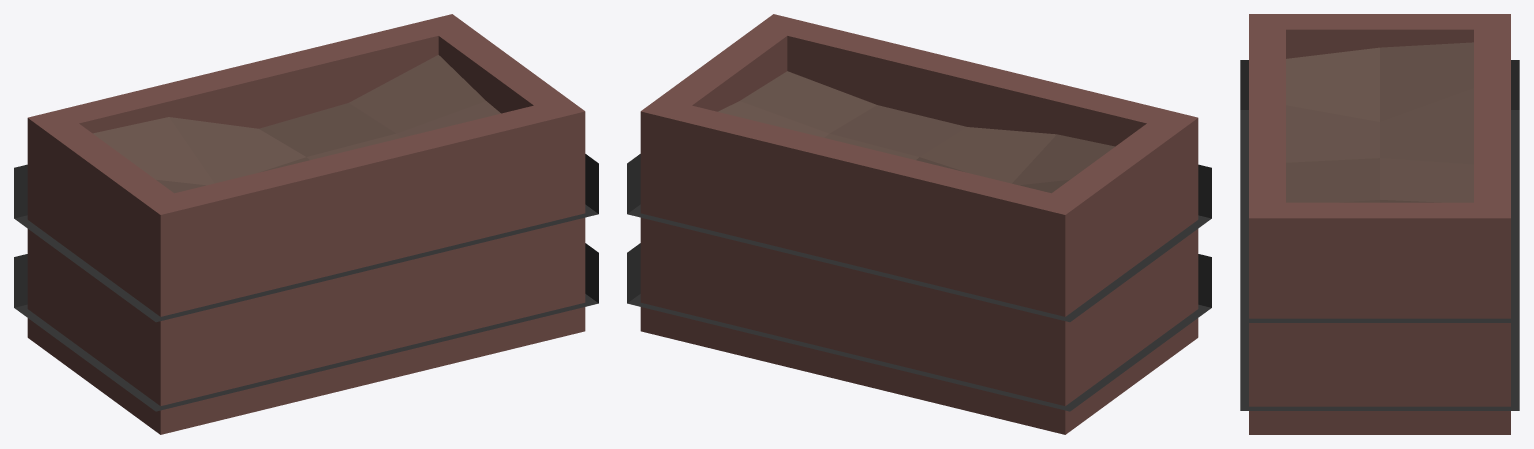
Rendered from DarkRoseWoodDecorationSmallRaisedPlanter1.fbx.
3 renders of one model, left to right at view 1: azimuth 30°, elevation 25°; view 2: azimuth 150°, elevation 25°; view 3: azimuth 270°, elevation 25°, orthographic.
Parts seen in each view (by area): view 1: DarkRoseWoodDecorationSmallRaisedPlanter1; view 2: DarkRoseWoodDecorationSmallRaisedPlanter1; view 3: DarkRoseWoodDecorationSmallRaisedPlanter1.
Part boxes in pixels (box(x1,y1,x2,y2)): DarkRoseWoodDecorationSmallRaisedPlanter1: box(14, 14, 598, 434); DarkRoseWoodDecorationSmallRaisedPlanter1: box(627, 14, 1211, 434); DarkRoseWoodDecorationSmallRaisedPlanter1: box(1240, 14, 1519, 434).
Size of the model in its own units: 235 by 111 by 130.
